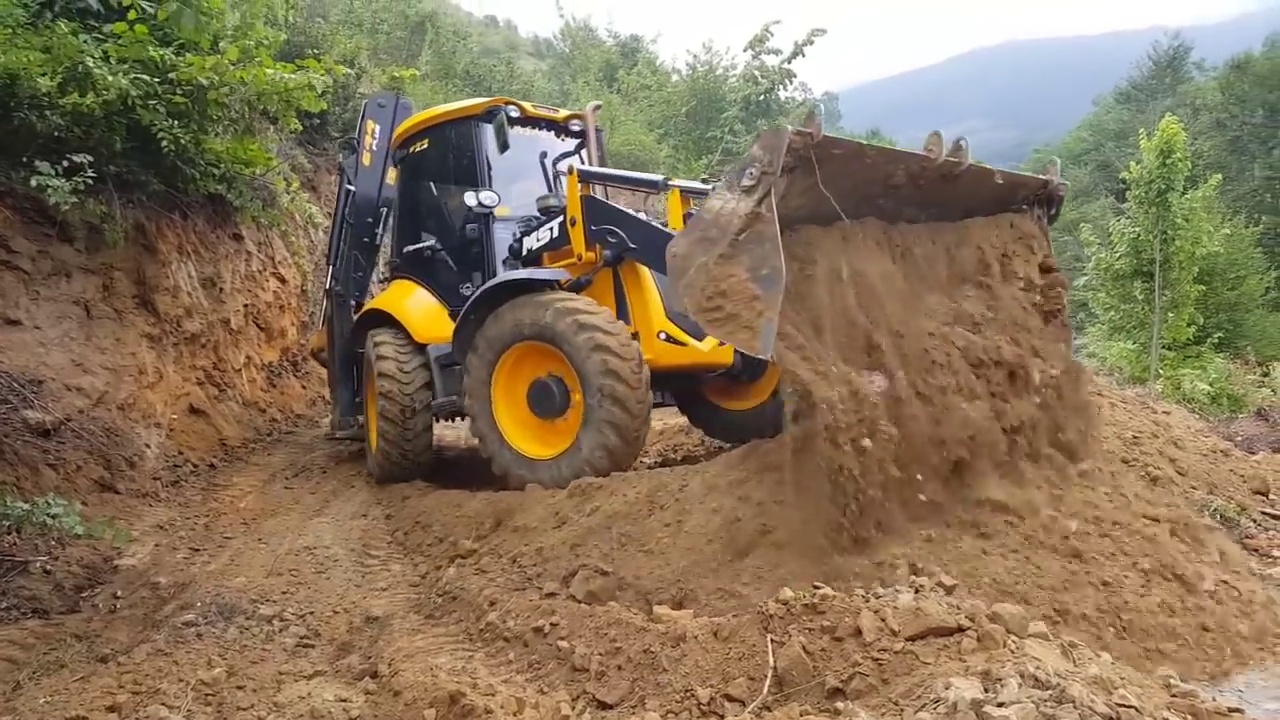wheel loader: (312, 87, 1083, 494)
